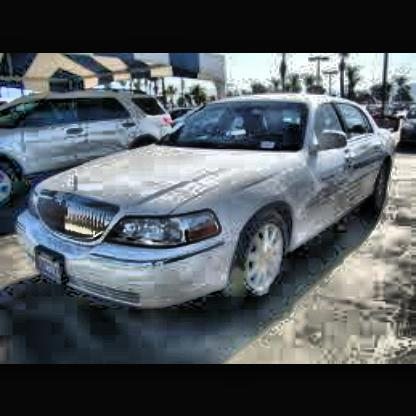Lincoln Town Car Sedan 2011: (10, 89, 416, 318)
